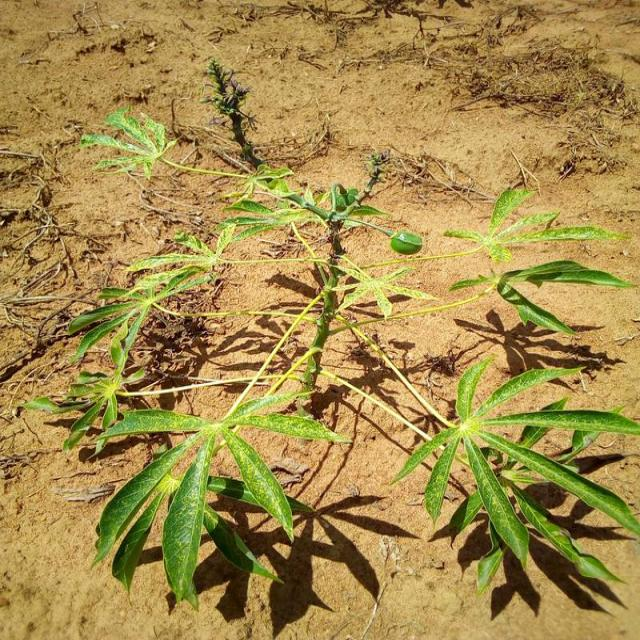cassava leaf: (389, 354, 638, 594), (389, 230, 422, 254)
